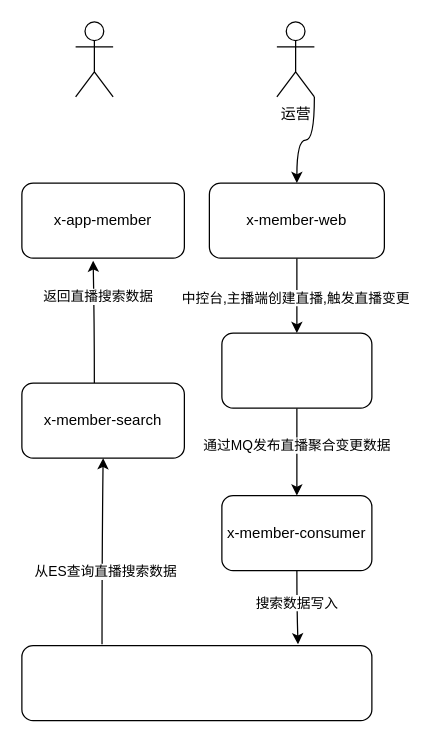
Some shapes in this 430 by 743 pixel diagram are drawn without their labels. The shapes that lost their labels are listed below. From the top down, each one's box as (x1, y1, x2, y2) in pixels, then its label:
(74, 21, 113, 97): 用户
(221, 332, 372, 408): x-live-center 汇总直播,优惠券,商品,活动等数据进行整合
(21, 644, 372, 721): ES
